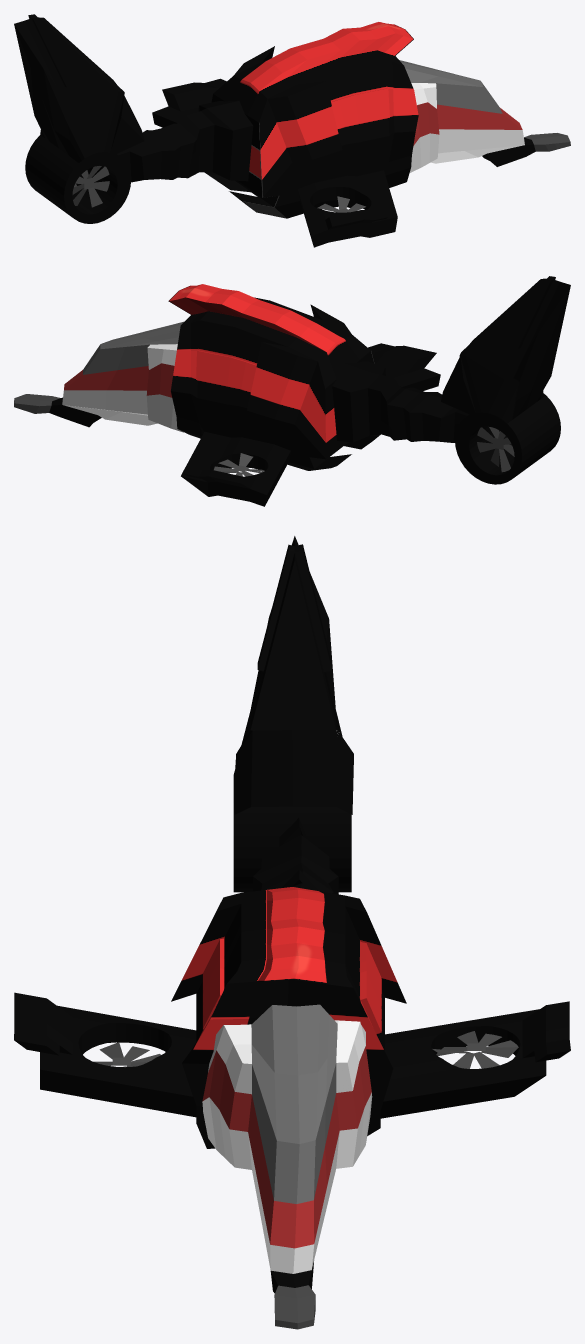
The model's file is ship.glb.
3 views of the same model, one above another, from view 1: azimuth 30°, elevation 25°; view 2: azimuth 150°, elevation 25°; view 3: azimuth 270°, elevation 25° (orthographic). The views are drawn at different scales.
Parts seen in each view (by area): view 1: Cube.001, Cylinder, Cube.002, Cube.003, Cube, Cube.005, Cube.008, Cube.004, Plane.045, Cube.006, Cube.007; view 2: Cube.001, Cylinder, Cube.002, Cube.004, Cube, Cube.005, Cube.008, Cube.003, Plane.045, Cube.006, Cube.007; view 3: Cube.001, Cylinder, Cube.005, Cube.003, Cube.004, Cube, Cube.008, Cube.002, Plane.045, Cube.007.
Boxes of the visible parts, box(x1,y1,x2,y2) form: Cube.001: box(204, 22, 418, 245); Cylinder: box(14, 14, 144, 223); Cube.002: box(117, 100, 253, 182); Cube.003: box(298, 170, 397, 247); Cube: box(409, 83, 524, 172); Cube.005: box(399, 60, 502, 113); Cube.008: box(413, 102, 522, 145); Cube.004: box(152, 78, 226, 127); Plane.045: box(72, 166, 365, 212); Cube.006: box(482, 137, 535, 166); Cube.007: box(524, 133, 570, 151); Cube.001: box(168, 284, 440, 470); Cylinder: box(441, 276, 570, 484); Cube.002: box(332, 361, 468, 442); Cube.004: box(181, 432, 290, 506); Cube: box(62, 344, 184, 432); Cube.005: box(83, 321, 183, 374); Cube.008: box(64, 363, 174, 397); Cube.003: box(368, 343, 440, 389); Plane.045: box(214, 427, 514, 476); Cube.006: box(49, 397, 101, 427); Cube.007: box(14, 394, 60, 413); Cube.001: box(78, 887, 406, 1148); Cylinder: box(233, 536, 353, 892); Cube.005: box(251, 1004, 337, 1203); Cube.003: box(14, 992, 196, 1117); Cube.004: box(380, 1001, 570, 1118); Cube: box(202, 1020, 372, 1273); Cube.008: box(202, 1046, 371, 1248); Cube.002: box(253, 818, 338, 894); Plane.045: box(93, 1031, 518, 1068); Cube.007: box(274, 1285, 315, 1329).
Bounding box in the file's own units: 16.52 × 7.3 × 9.45.
11 materials, 10 textured.
